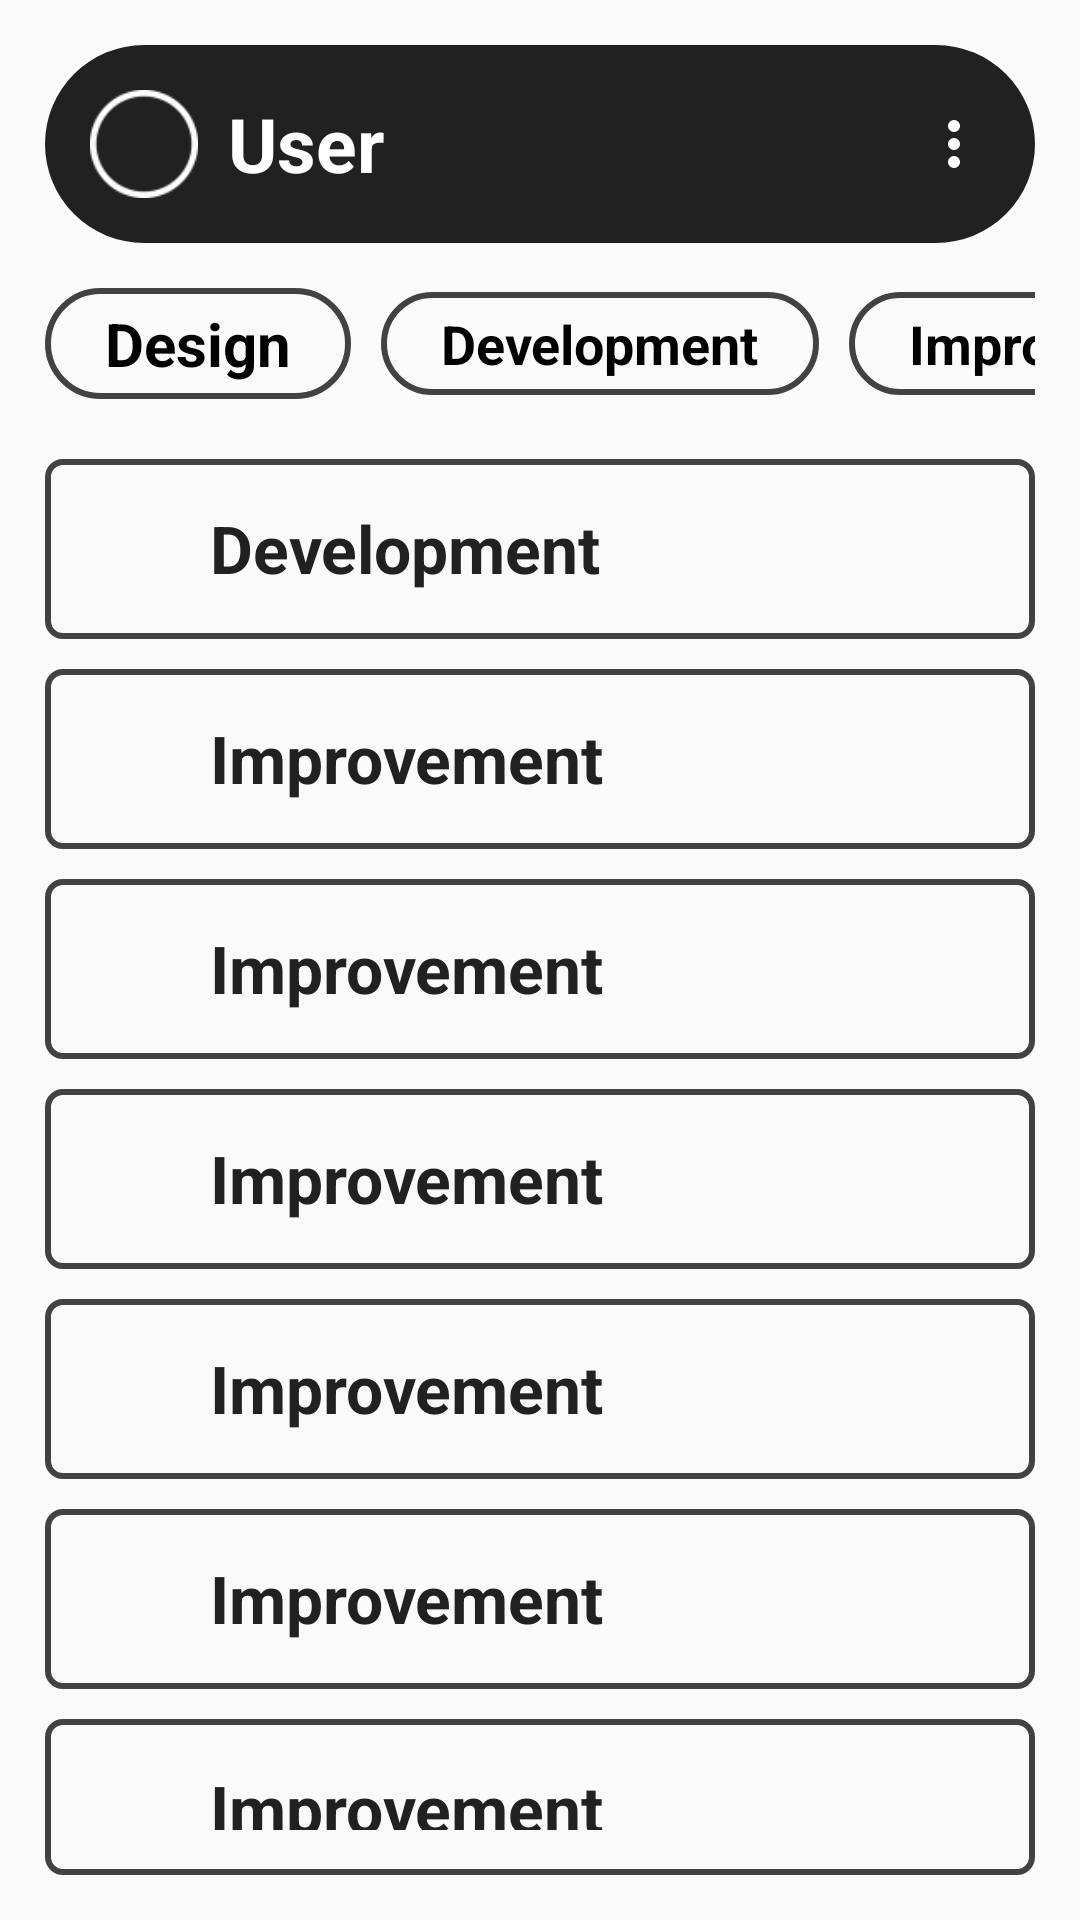

Where icons sit on this 1080x1920 app screen, as (x1, y1, x2, y2):
overflow: (948, 120, 960, 168)
